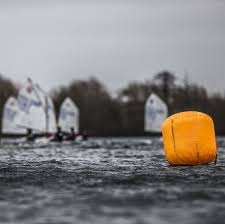buoy: (161, 111, 216, 166)
